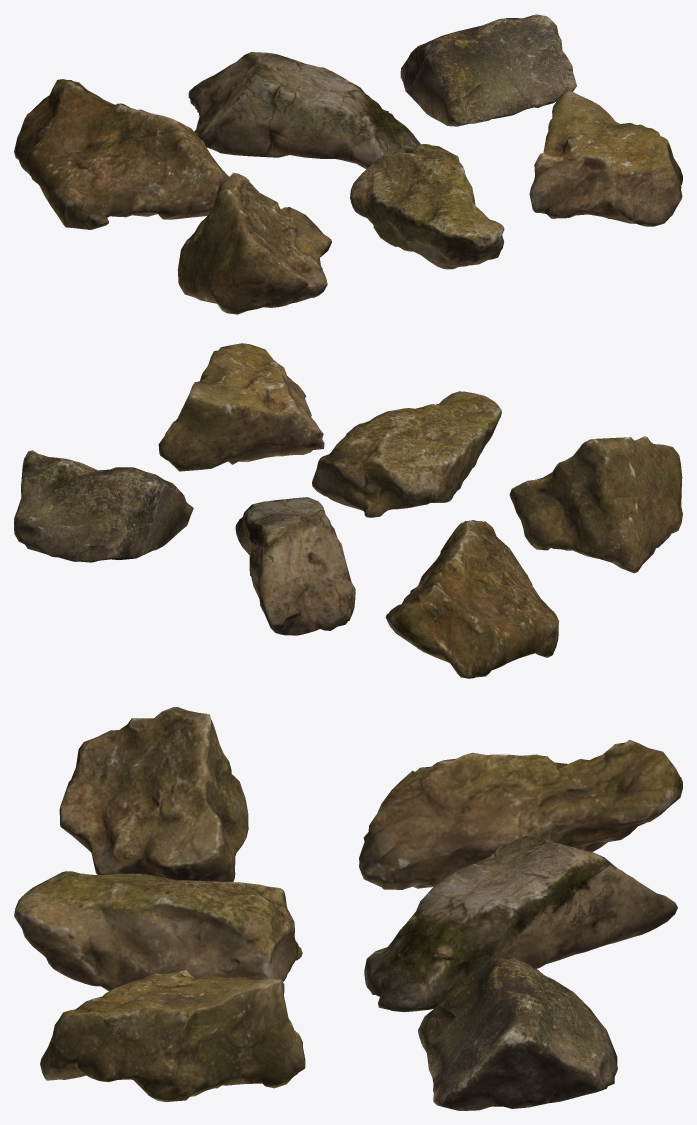
Rendered from rock_moss.glb.
3 views of the same model, one above another, from view 1: azimuth 30°, elevation 25°; view 2: azimuth 150°, elevation 25°; view 3: azimuth 270°, elevation 25° (orthographic). The views are drawn at different scales.
Visible parts, largest first — view 1: rock_moss_set_01_rock01, rock_moss_set_01_rock02, rock_moss_set_01_rock06, rock_moss_set_01_rock04, rock_moss_set_01_rock03, rock_moss_set_01_rock05; view 2: rock_moss_set_01_rock04, rock_moss_set_01_rock01, rock_moss_set_01_rock05, rock_moss_set_01_rock03, rock_moss_set_01_rock06, rock_moss_set_01_rock02; view 3: rock_moss_set_01_rock01, rock_moss_set_01_rock02, rock_moss_set_01_rock05, rock_moss_set_01_rock06, rock_moss_set_01_rock04, rock_moss_set_01_rock03.
Boxes of the visible parts, bbox=[...] form: rock_moss_set_01_rock01: bbox=[14, 79, 228, 229]; rock_moss_set_01_rock02: bbox=[188, 52, 420, 169]; rock_moss_set_01_rock06: bbox=[529, 90, 682, 226]; rock_moss_set_01_rock04: bbox=[177, 172, 331, 314]; rock_moss_set_01_rock03: bbox=[400, 14, 576, 126]; rock_moss_set_01_rock05: bbox=[350, 144, 504, 269]; rock_moss_set_01_rock04: bbox=[509, 436, 682, 573]; rock_moss_set_01_rock01: bbox=[385, 520, 559, 678]; rock_moss_set_01_rock05: bbox=[312, 391, 501, 517]; rock_moss_set_01_rock03: bbox=[14, 450, 193, 562]; rock_moss_set_01_rock06: bbox=[158, 343, 324, 471]; rock_moss_set_01_rock02: bbox=[235, 497, 355, 635]; rock_moss_set_01_rock01: bbox=[359, 739, 682, 889]; rock_moss_set_01_rock02: bbox=[364, 836, 677, 1012]; rock_moss_set_01_rock05: bbox=[14, 871, 302, 991]; rock_moss_set_01_rock06: bbox=[40, 970, 305, 1101]; rock_moss_set_01_rock04: bbox=[59, 707, 248, 881]; rock_moss_set_01_rock03: bbox=[418, 956, 617, 1110].
Bounding box in the file's own units: 8 × 1.76 × 6.94.
1 material, 1 textured.
